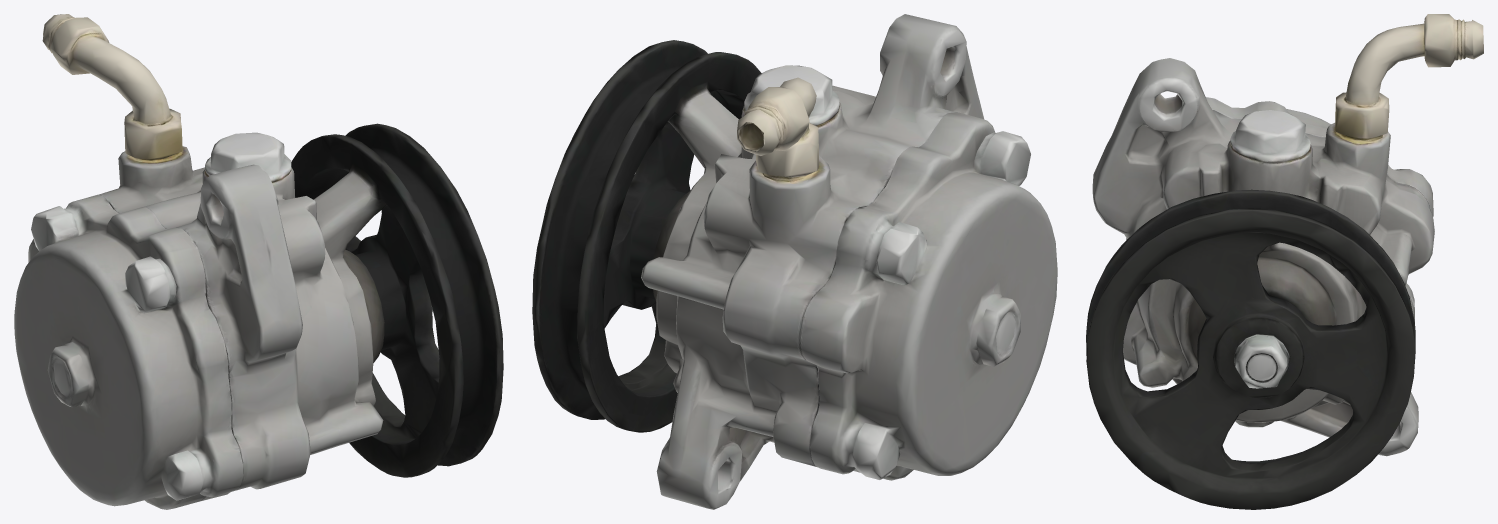
Rendered from power-steering-oil-pump.glb.
The picture shows the model from 3 angles, left to right: view 1: azimuth 30°, elevation 25°; view 2: azimuth 150°, elevation 25°; view 3: azimuth 270°, elevation 25°; orthographic projection. The views are drawn at different scales.
Visible parts, largest first — view 1: tripo_node_1316e47b-906f-4b12-af76-ff71cfa2d190; view 2: tripo_node_1316e47b-906f-4b12-af76-ff71cfa2d190; view 3: tripo_node_1316e47b-906f-4b12-af76-ff71cfa2d190.
Boxes of the visible parts, bbox=[...] form: tripo_node_1316e47b-906f-4b12-af76-ff71cfa2d190: bbox=[14, 14, 503, 509]; tripo_node_1316e47b-906f-4b12-af76-ff71cfa2d190: bbox=[532, 14, 1057, 509]; tripo_node_1316e47b-906f-4b12-af76-ff71cfa2d190: bbox=[1086, 14, 1483, 509].
Bounding box in the file's own units: 0.9327 × 1 × 0.9364.
Materials: 1 (1 with a texture image).
